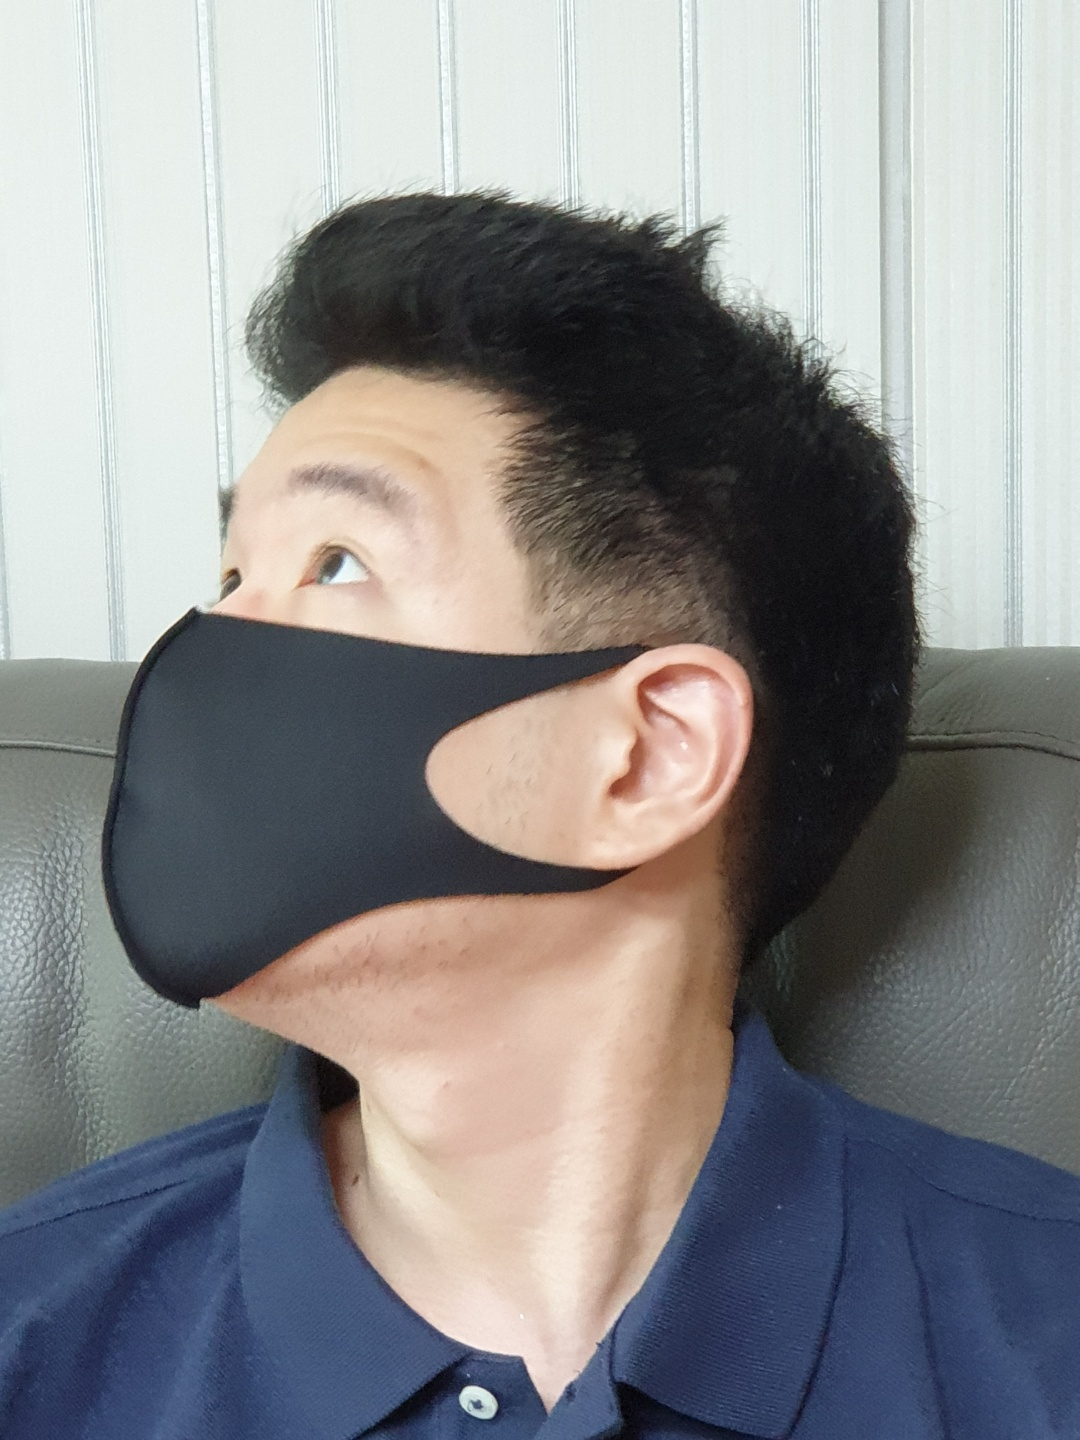mask: (124, 376, 606, 1010)
